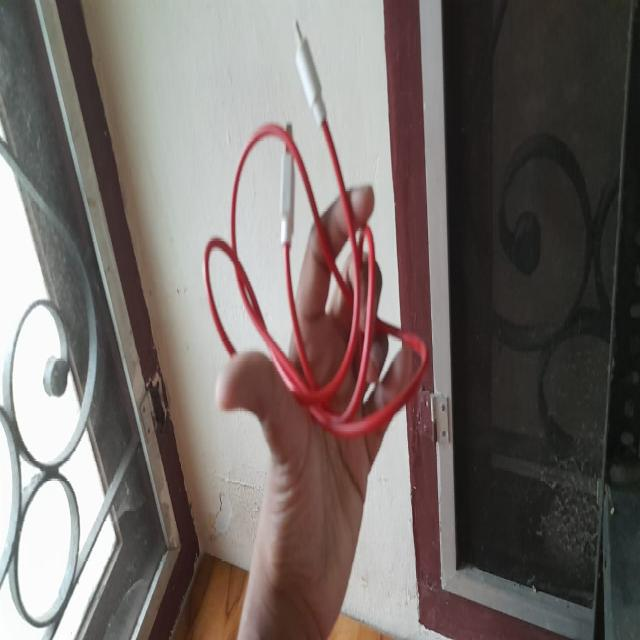Charger - Recyclable: (199, 9, 440, 462)
